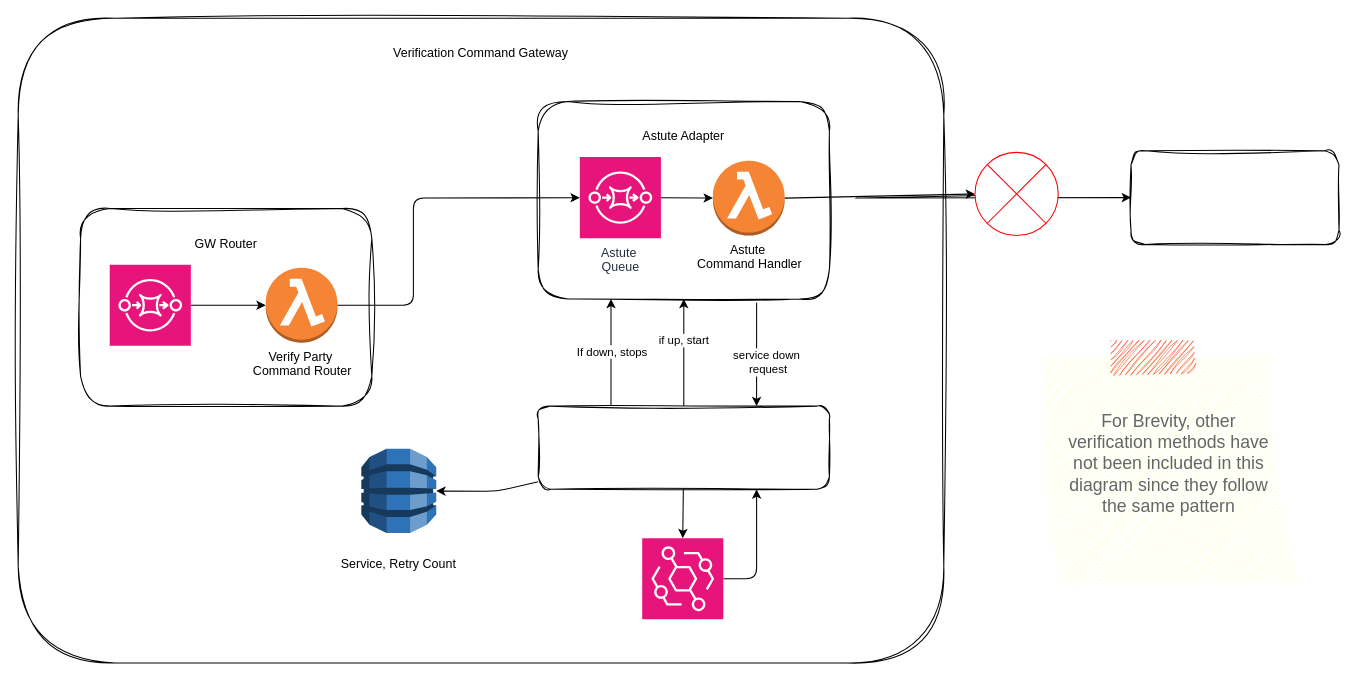
The diagram is 1357 pixels wide and 681 high, and some of its shapes have lost their labels. The box of each missing label's shape, as (x1, y1, x2, y2) in pixels:
Astute: (1130, 150, 1339, 244)
Resiliency Service: (537, 405, 829, 489)
Verify Party Queue: (109, 264, 191, 346)
